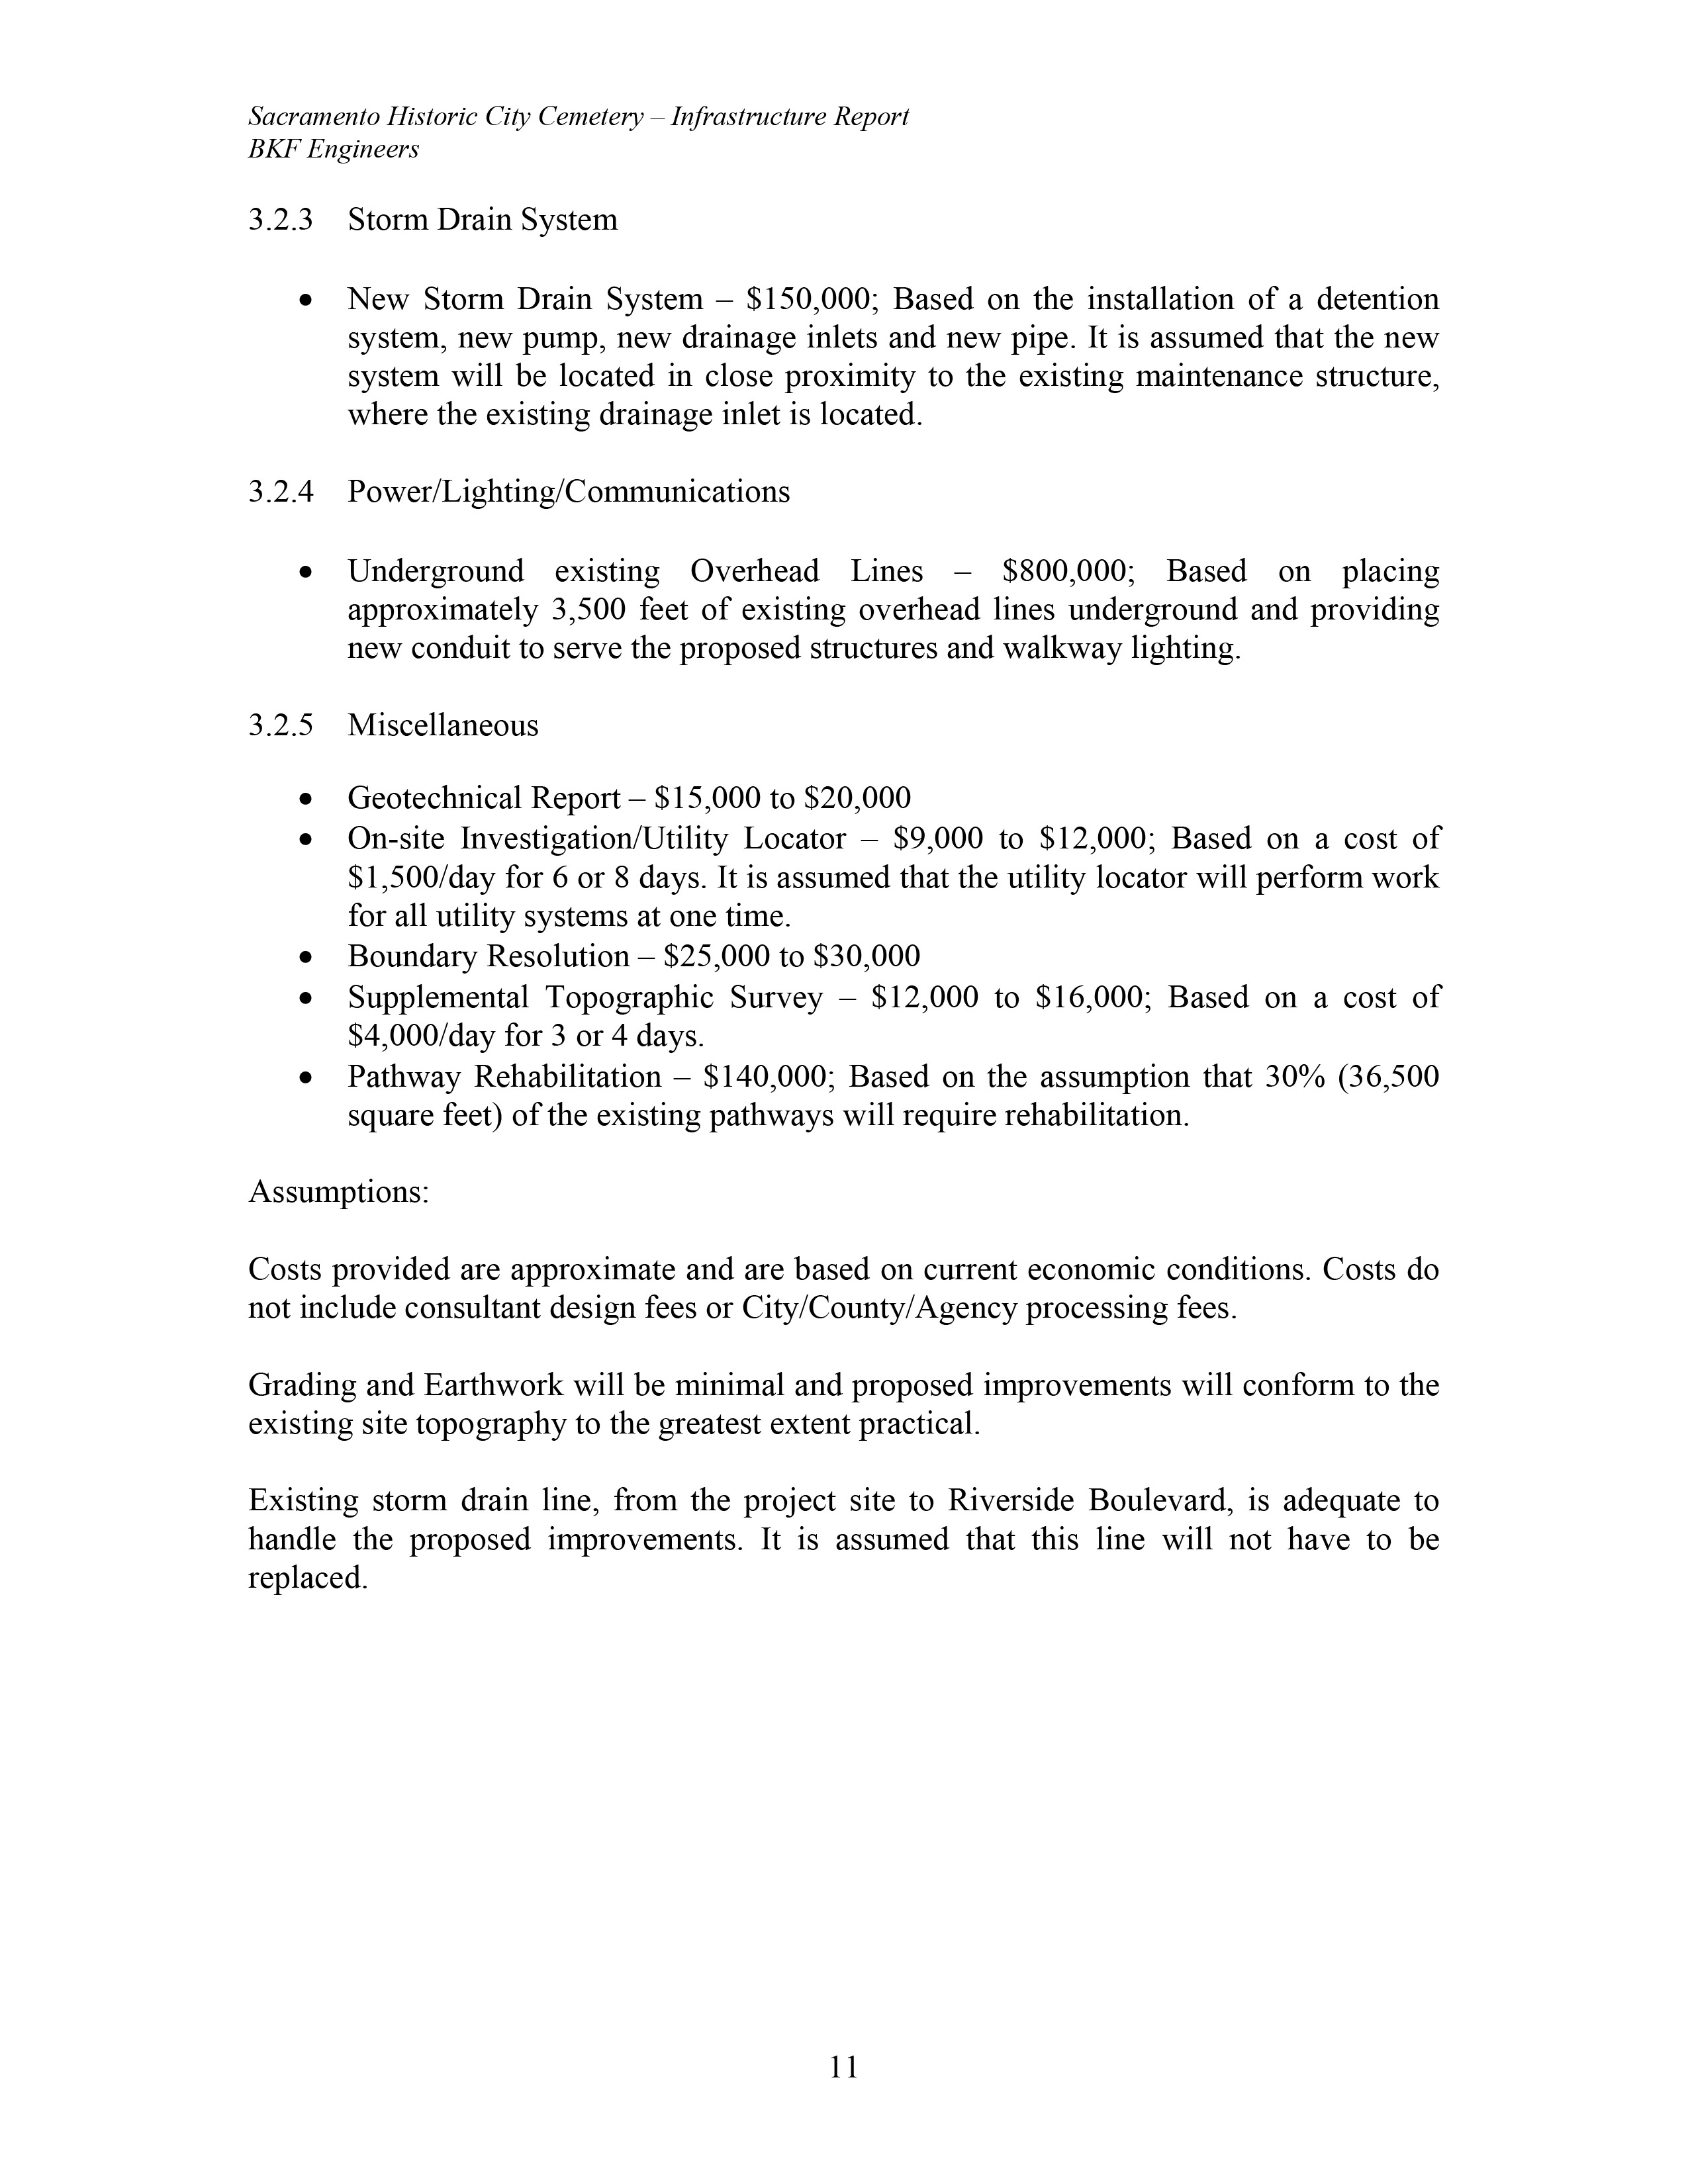list: (287, 796, 1461, 1152), (277, 275, 1450, 443), (291, 546, 1468, 697)
section: (245, 447, 796, 523), (231, 199, 635, 253), (241, 700, 559, 753), (225, 1175, 440, 1228)
text: (238, 1480, 1442, 1603), (245, 1246, 1447, 1331), (250, 1369, 1445, 1454)
